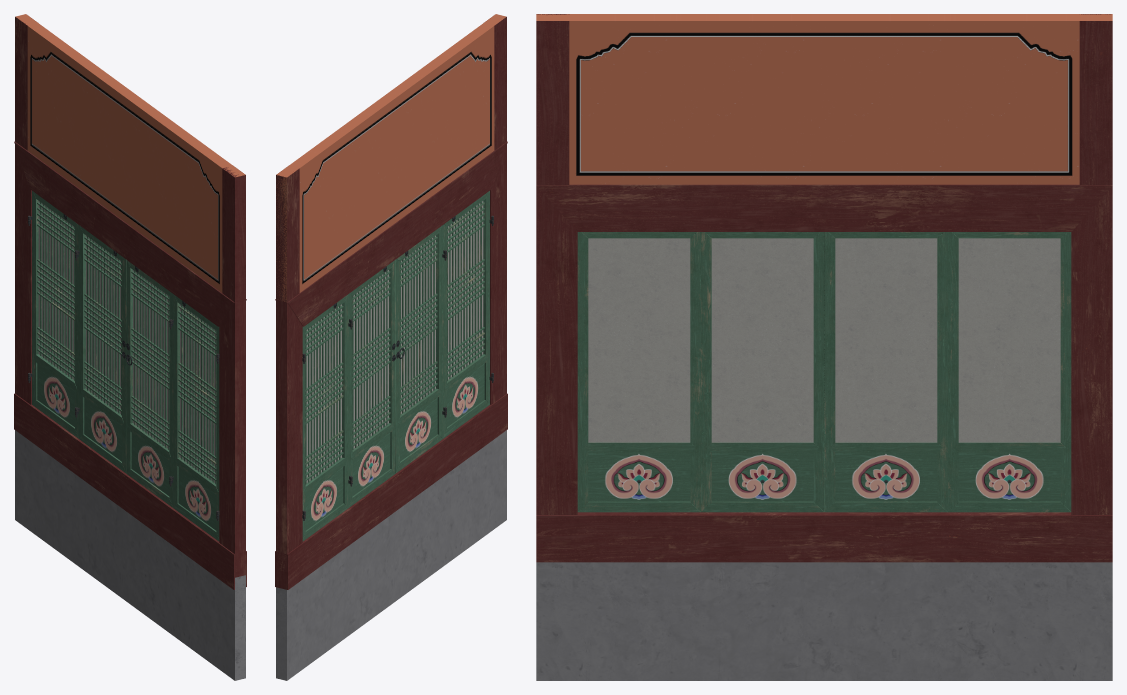
File: SM_CGJ_Wall01i.fbx
3 renders of one model, left to right at view 1: azimuth 30°, elevation 25°; view 2: azimuth 150°, elevation 25°; view 3: azimuth 270°, elevation 25°, orthographic. The views are drawn at different scales.
Visible parts, largest first — view 1: SM_CGJ_Wall01i; view 2: SM_CGJ_Wall01i; view 3: SM_CGJ_Wall01i.
Boxes of the visible parts, box(x1,y1,x2,y2) form: SM_CGJ_Wall01i: box(14, 14, 246, 680); SM_CGJ_Wall01i: box(275, 14, 507, 680); SM_CGJ_Wall01i: box(536, 14, 1112, 680).
Size of the model in its own units: 13.46 by 350 by 442.
Materials: 7 (7 with a texture image).
